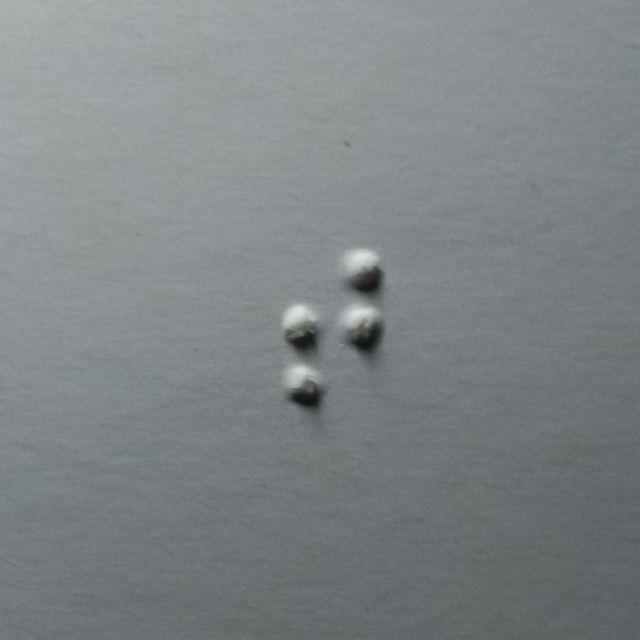tayo: (282, 245, 385, 409)
